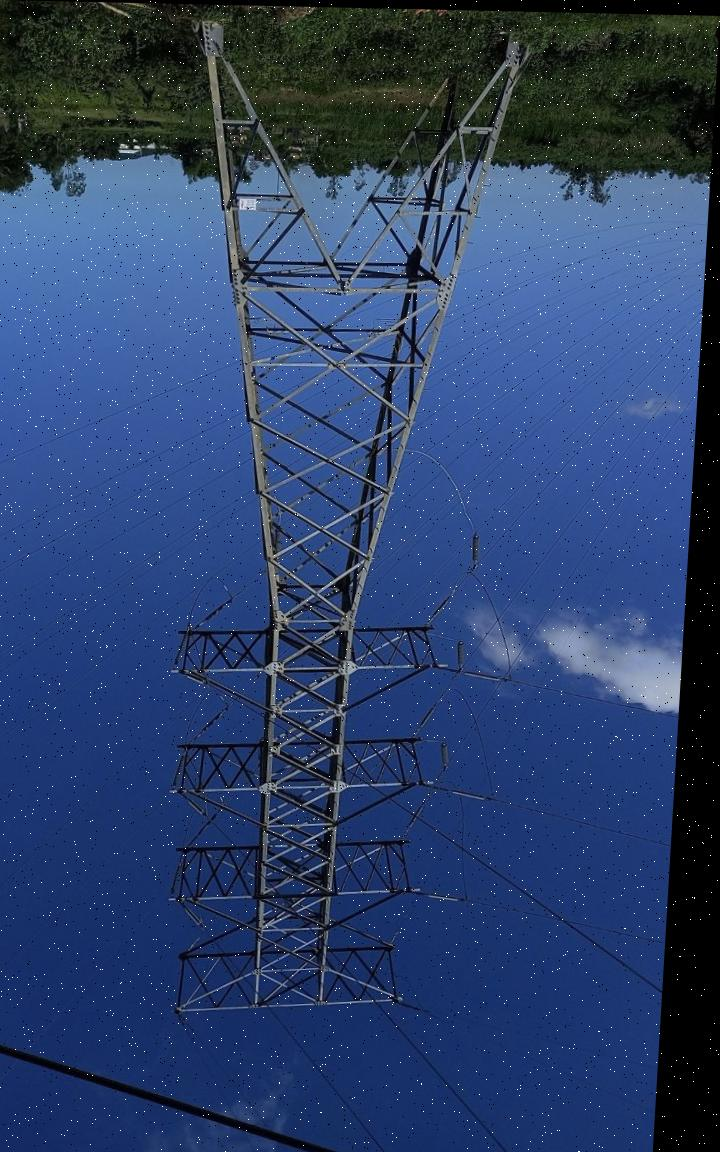tower: (150, 42, 514, 1018)
